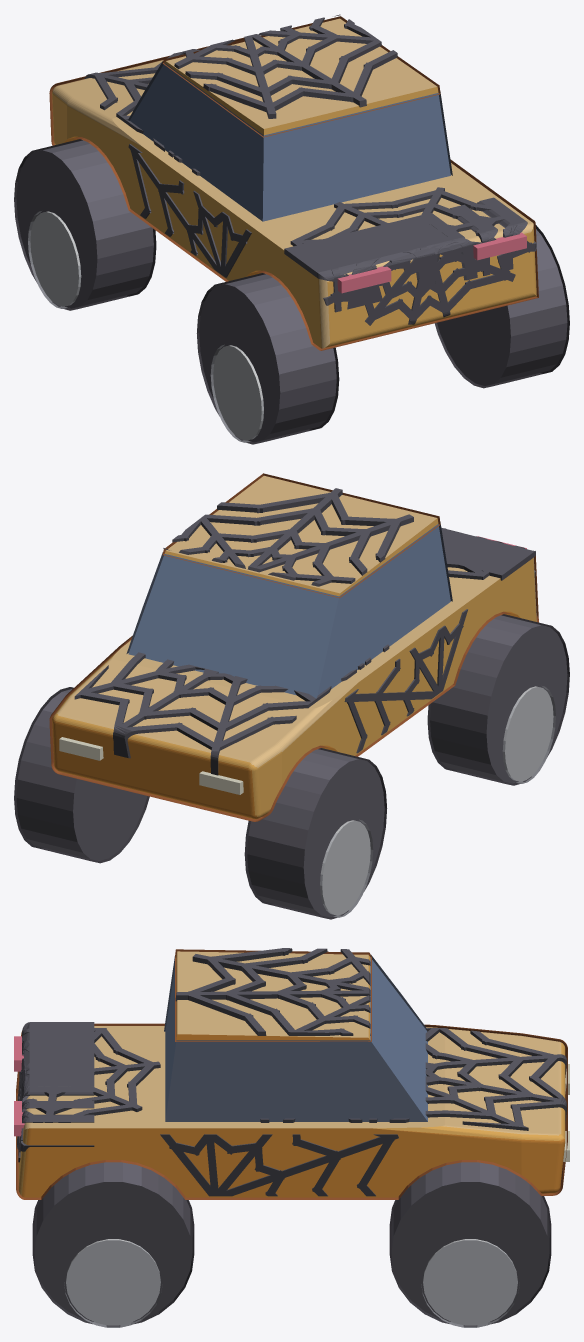
Rendered from car_monster.glb.
3 views of the same model, one above another, from view 1: azimuth 30°, elevation 25°; view 2: azimuth 150°, elevation 25°; view 3: azimuth 270°, elevation 25° (orthographic). The views are drawn at different scales.
Visible parts, largest first — view 1: car; view 2: car; view 3: car.
Part boxes in pixels (bbox=[...]): car: bbox=[14, 14, 569, 444]; car: bbox=[14, 473, 569, 919]; car: bbox=[14, 948, 569, 1327].
Size of the model in its own units: 2.61 by 2.33 by 4.36.
